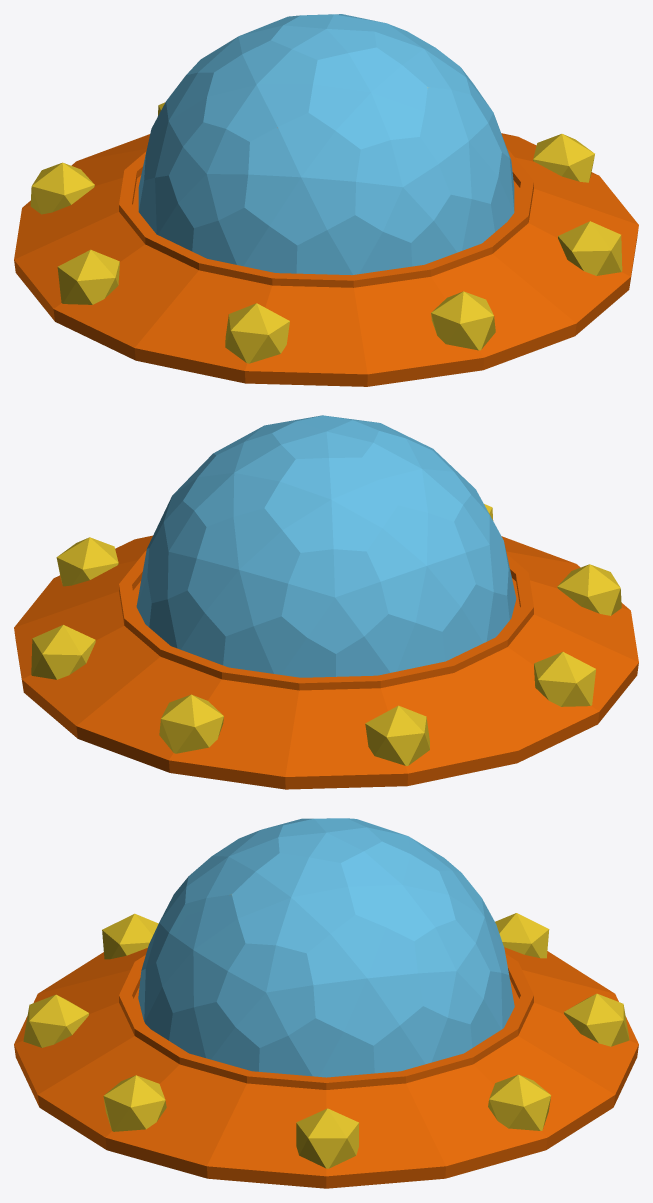
File: netPlayer.gltf
3 views of the same model, one above another, from view 1: azimuth 30°, elevation 25°; view 2: azimuth 150°, elevation 25°; view 3: azimuth 270°, elevation 25° (orthographic).
Visible parts, largest first — view 1: Cube.001; view 2: Cube.001; view 3: Cube.001.
Part boxes in pixels (bbox=[...]): Cube.001: bbox=[14, 14, 638, 386]; Cube.001: bbox=[14, 415, 638, 789]; Cube.001: bbox=[14, 818, 638, 1188].
Bounding box in the file's own units: 1.95 × 0.9095 × 1.95.
3 materials, 3 textured.
